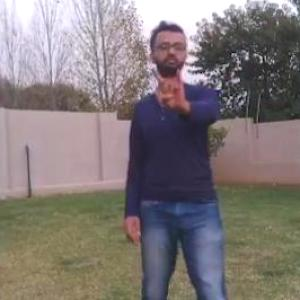takeoff-hand: (145, 61, 194, 118)
